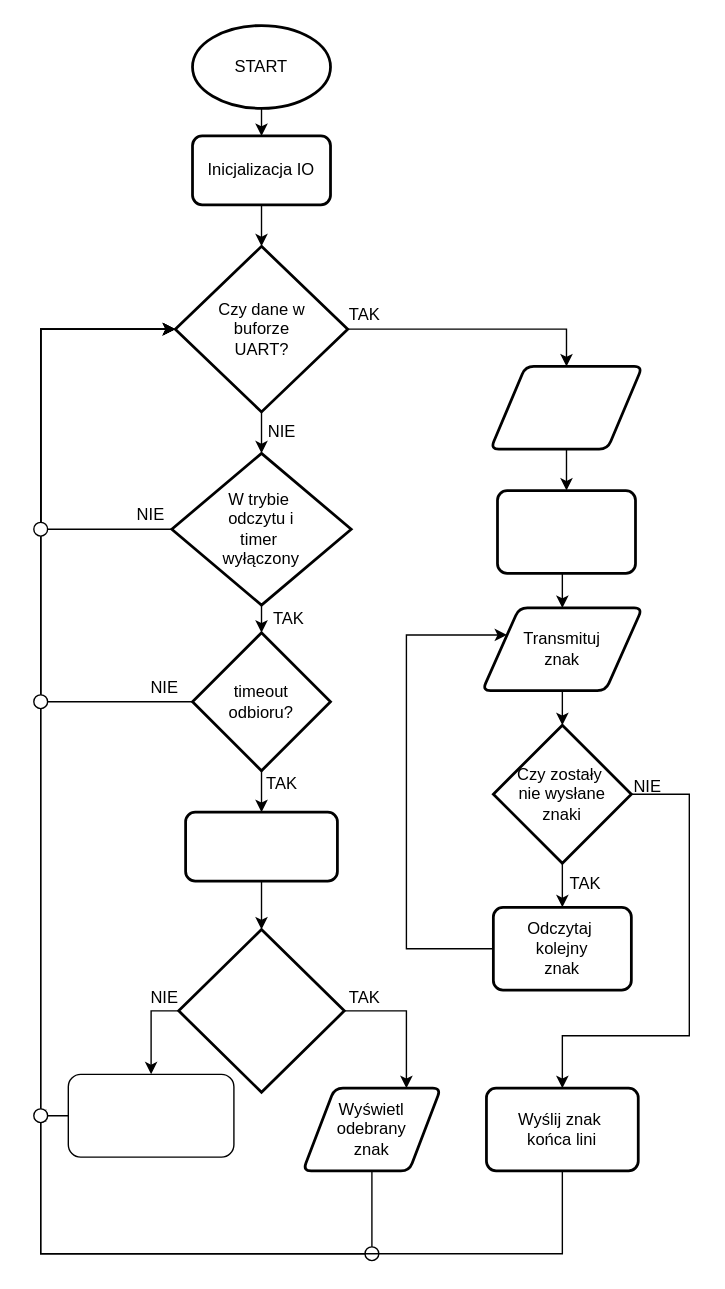
This 725x1289 diagram has some shape labels left out. The centre of each missing label's shape, as x and y in pixels:
Dekoduj znak: point 261,846
Odczytaj dane z UART'u: point 566,407
Odczytaj pierwszy znak: point 565,531
Odebrano znak końca lini?: point 261,1010
Zapis znak do tablicy: point 150,1115
